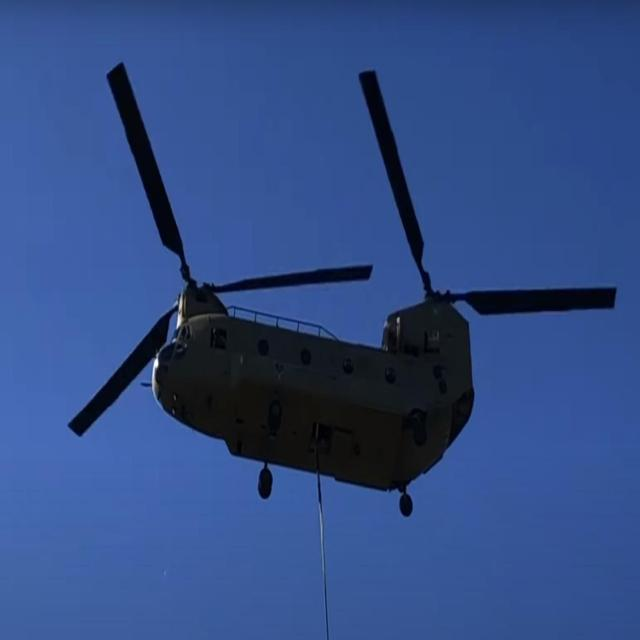Helicopter: (85, 66, 502, 543)
